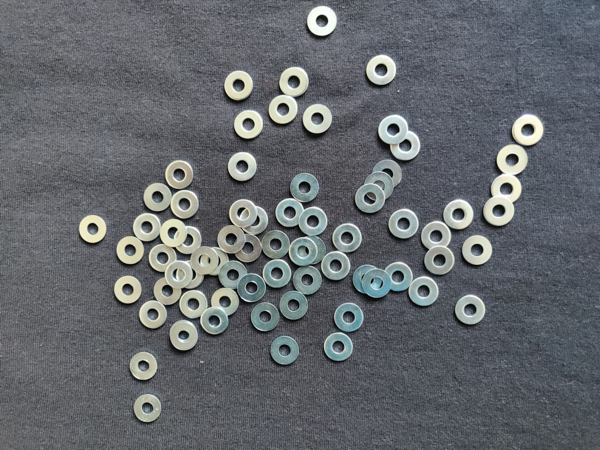circle: (511, 113, 544, 149), (453, 295, 488, 328), (132, 392, 167, 424), (277, 65, 311, 97), (406, 278, 441, 309), (301, 104, 333, 137), (305, 5, 338, 37), (495, 144, 528, 176), (231, 109, 266, 139), (461, 236, 494, 267), (376, 114, 410, 144), (168, 321, 200, 352), (293, 265, 324, 297), (334, 304, 366, 335), (275, 197, 306, 229), (444, 200, 476, 231), (288, 172, 320, 203), (365, 54, 397, 85), (492, 174, 524, 205), (128, 353, 161, 383), (271, 335, 301, 368), (382, 263, 415, 293), (279, 291, 310, 322), (298, 206, 329, 237), (421, 221, 452, 252), (390, 130, 421, 161), (484, 195, 515, 226), (261, 229, 291, 261), (388, 209, 420, 239), (355, 184, 387, 214), (179, 289, 209, 320), (251, 302, 281, 333), (324, 333, 355, 363), (268, 95, 299, 125), (212, 287, 241, 319), (332, 224, 364, 253), (424, 247, 456, 276), (202, 308, 232, 338), (373, 158, 403, 188), (224, 70, 254, 100), (298, 235, 327, 266), (226, 152, 257, 181), (170, 320, 197, 353), (139, 301, 169, 330), (113, 276, 143, 305), (165, 260, 194, 290), (229, 199, 259, 228), (263, 260, 293, 289), (322, 252, 351, 282), (170, 189, 199, 218), (240, 207, 269, 236), (366, 172, 395, 201), (154, 277, 182, 307), (191, 246, 219, 276), (115, 237, 145, 265), (143, 183, 173, 211), (164, 161, 194, 189), (234, 234, 262, 264), (353, 265, 381, 295), (178, 259, 205, 290), (172, 227, 203, 254), (239, 274, 267, 303), (201, 247, 229, 276), (78, 216, 107, 244), (218, 224, 246, 253), (219, 263, 249, 290), (290, 239, 318, 267), (363, 270, 391, 298), (133, 214, 162, 241), (159, 220, 188, 247), (150, 244, 177, 272)
